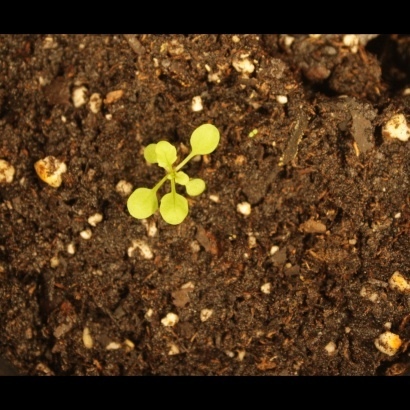leaf: (183, 121, 225, 160), (127, 184, 162, 219), (161, 191, 192, 228), (156, 138, 180, 173), (183, 175, 207, 202), (139, 141, 162, 167)
